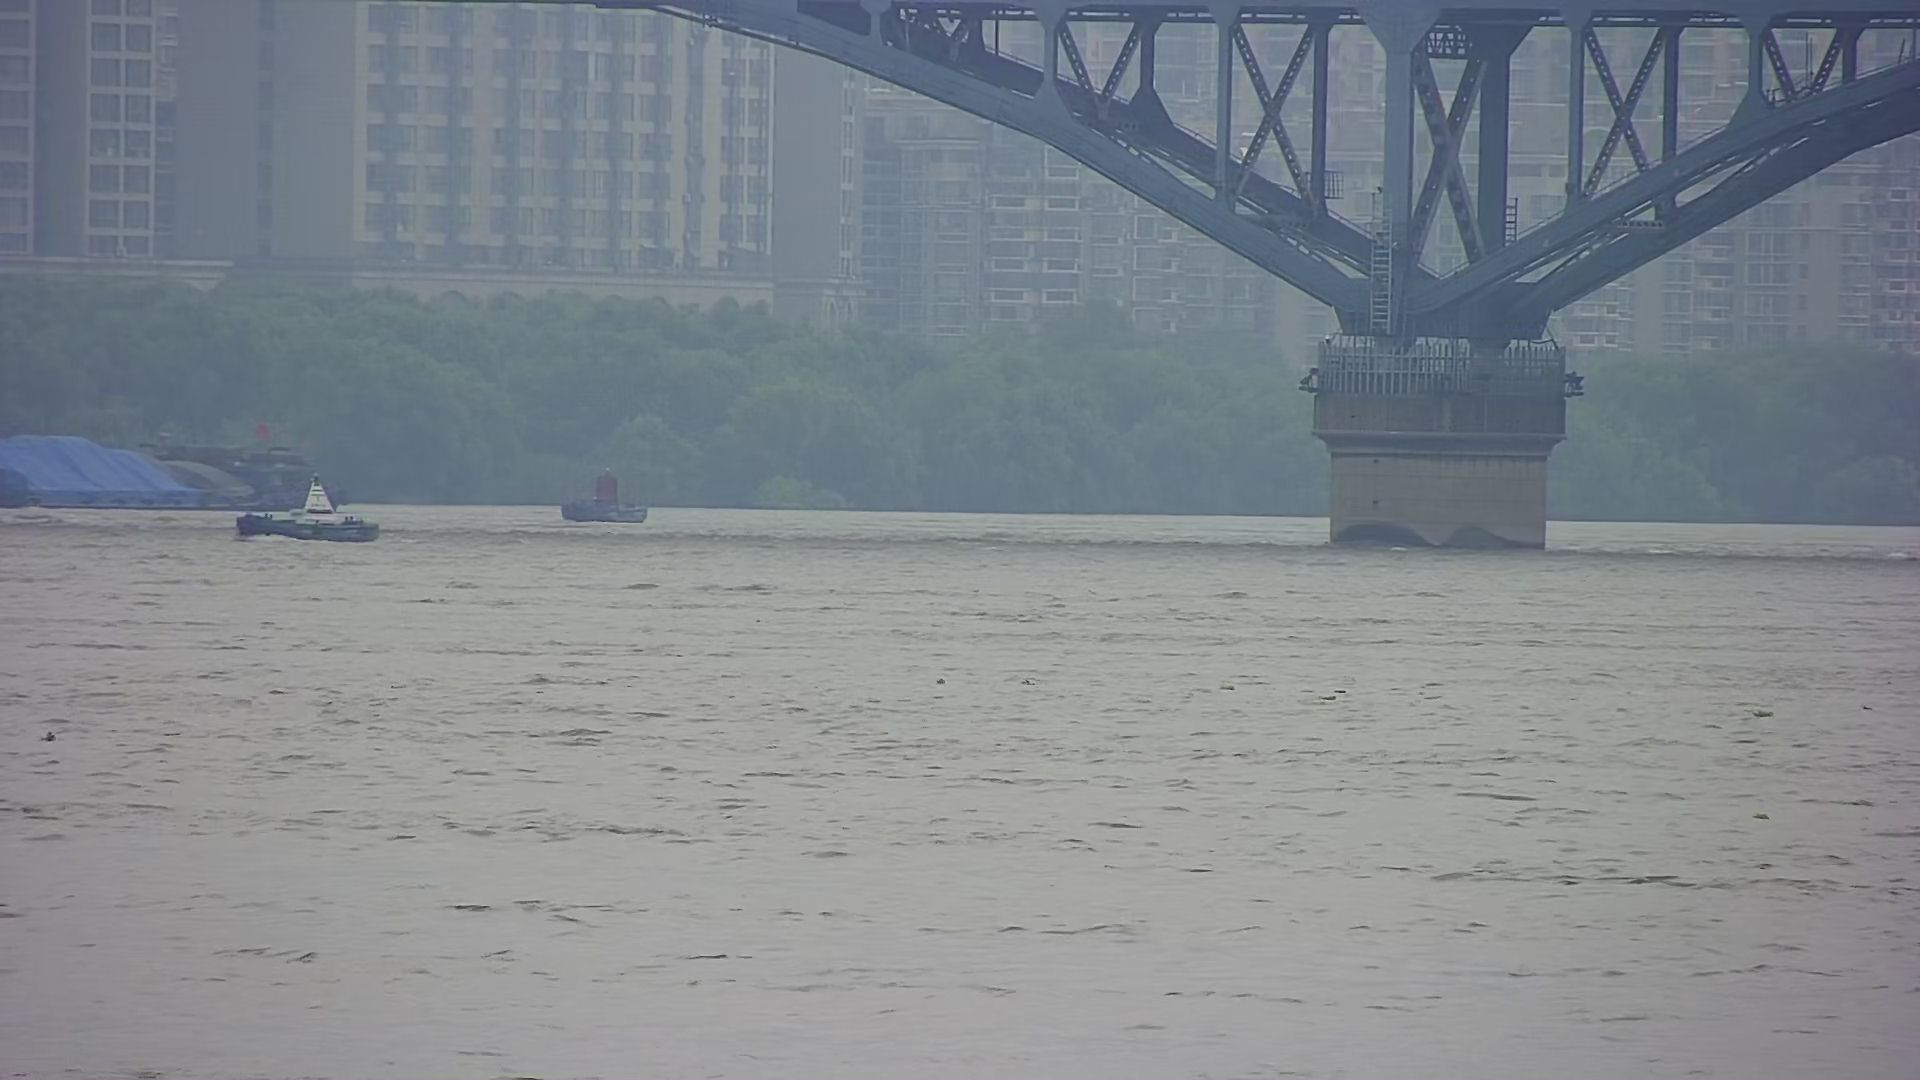boat: (227, 465, 392, 549), (554, 464, 667, 537)
bridge: (575, 1, 1919, 562)
ship: (1, 415, 365, 509)
